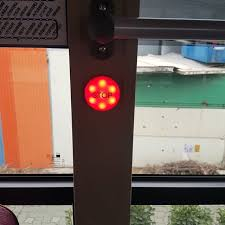bell: (81, 72, 124, 118)
